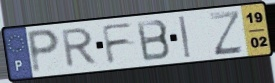B: (134, 18, 173, 63)
F: (100, 20, 136, 66)
I: (177, 14, 193, 59)
P: (25, 27, 62, 75)
R: (61, 26, 100, 70)
Z: (207, 9, 246, 58)
